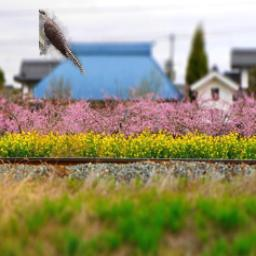Cuckoo: (38, 8, 86, 76)
